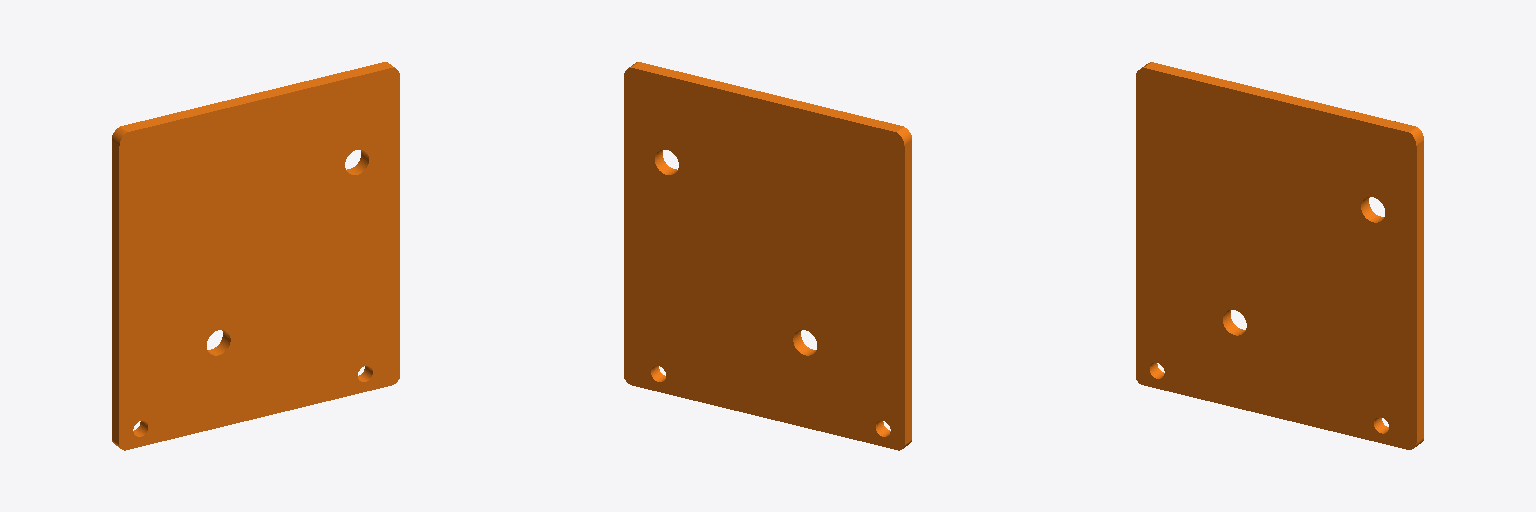
Rendered from Middle Tray.obj.
3 views of the same model, side by side, from view 1: azimuth 30°, elevation 25°; view 2: azimuth 150°, elevation 25°; view 3: azimuth 330°, elevation 25° (orthographic).
Parts seen in each view (by area): view 1: obj_0; view 2: obj_0; view 3: obj_0.
Part boxes in pixels (left/top/right/bottom): obj_0: left=112, top=62, right=399, bottom=450; obj_0: left=624, top=62, right=911, bottom=450; obj_0: left=1136, top=62, right=1423, bottom=449.
Size of the model in its own units: 41 by 44.3 by 2.